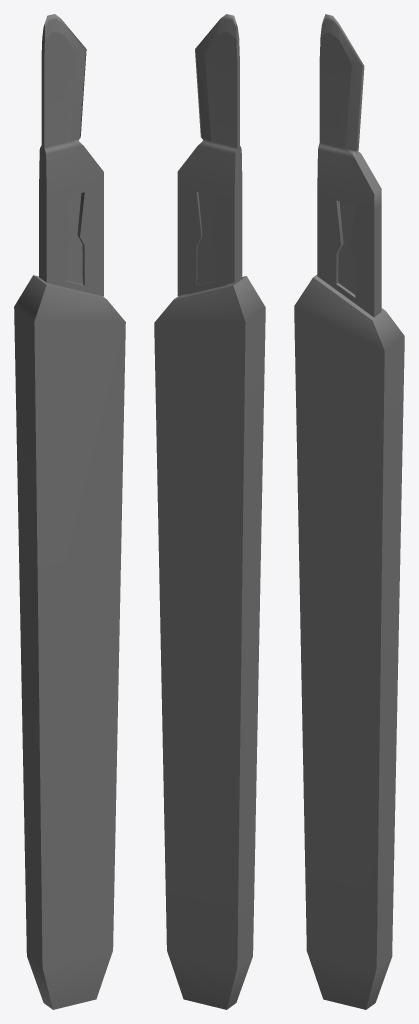
Rendered from Scalpel_Model 1.fbx.
3 renders of one model, left to right at view 1: azimuth 30°, elevation 25°; view 2: azimuth 150°, elevation 25°; view 3: azimuth 330°, elevation 25°, orthographic.
Parts seen in each view (by area): view 1: pCube1, pCube2; view 2: pCube1, pCube2; view 3: pCube1, pCube2.
Boxes of the visible parts, <box> form: pCube1: <box>14,193,125,1009</box>; pCube2: <box>39,14,103,296</box>; pCube1: <box>154,192,265,1009</box>; pCube2: <box>177,14,242,295</box>; pCube1: <box>294,201,404,1009</box>; pCube2: <box>317,14,381,317</box>.
Bounding box in the file's own units: 1.3 × 13.47 × 0.5.
